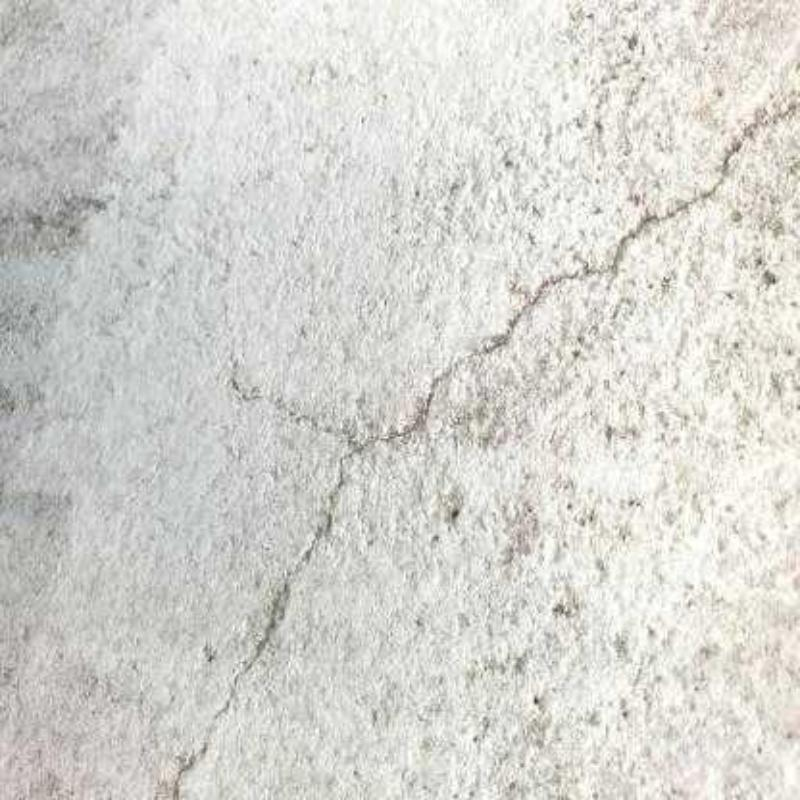pothole: (166, 93, 800, 793)
